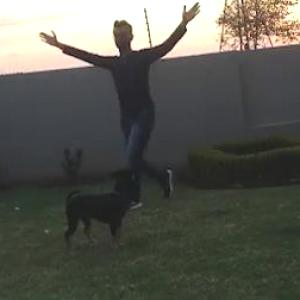takeoff: (48, 8, 198, 200)
